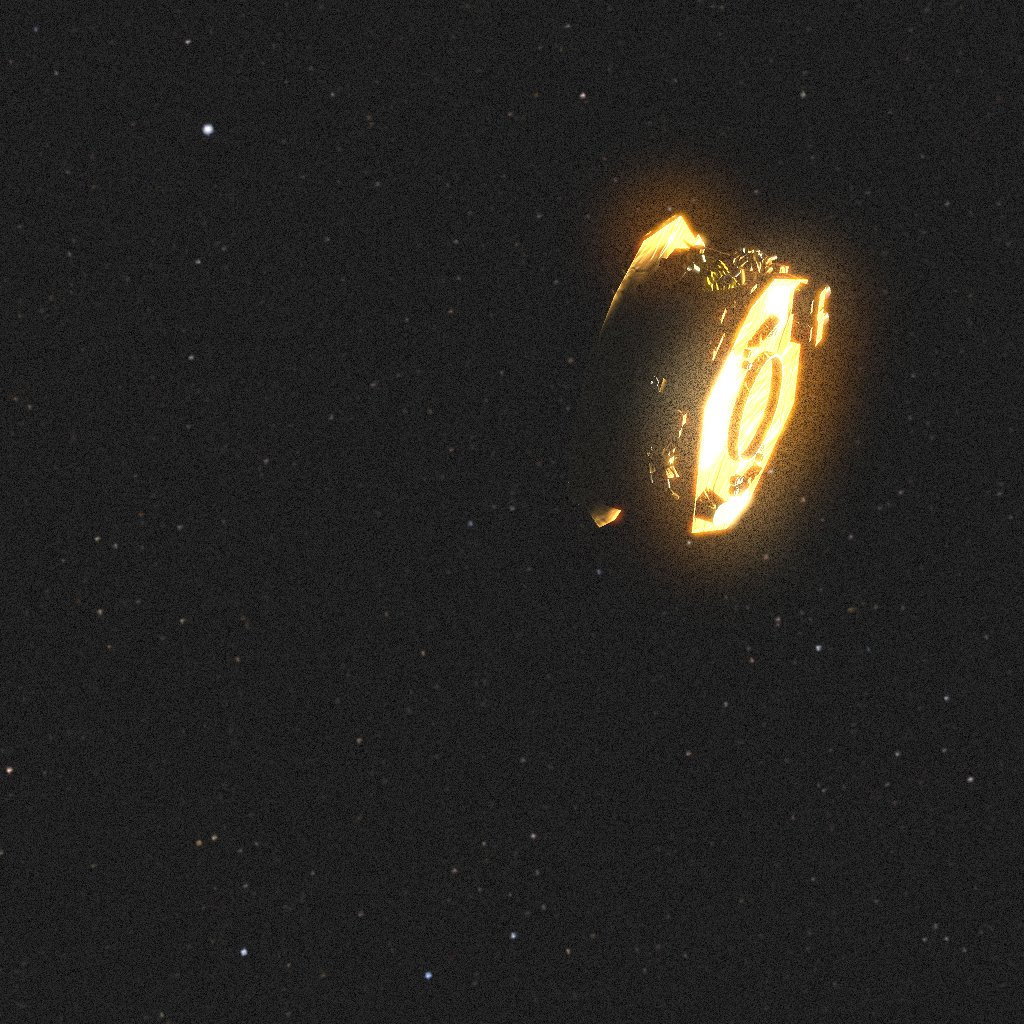lisa_pathfinder: (565, 214, 831, 533)
